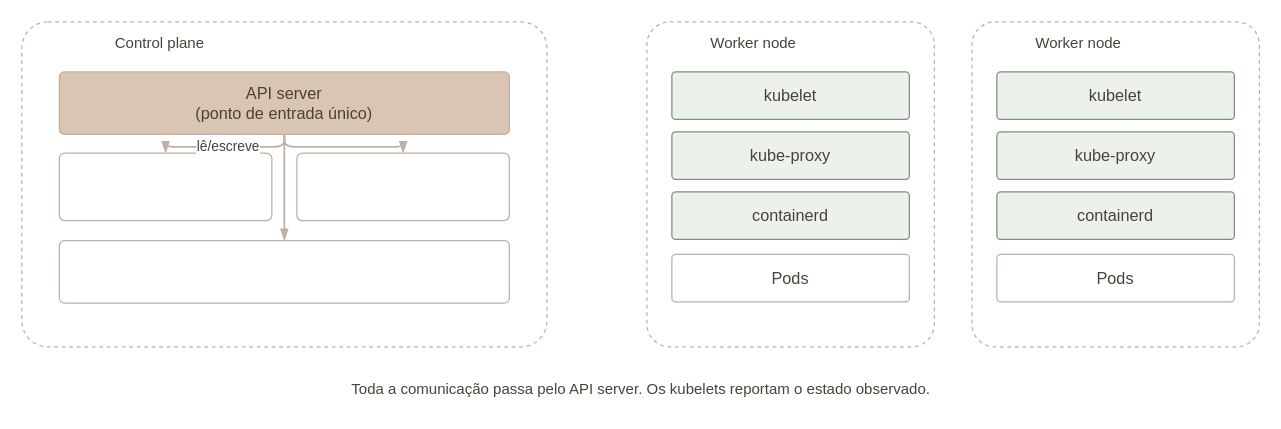
The diagram is 1281 pixels wide and 429 high, and some of its shapes have lost their labels. Here are the shapes that lost their labels. From the top down, the centre of each, then its label:
the point at 165,186: etcd estado do cluster
the point at 402,186: scheduler onde colocar Pods
the point at 283,271: controller manager reconcilia estado
